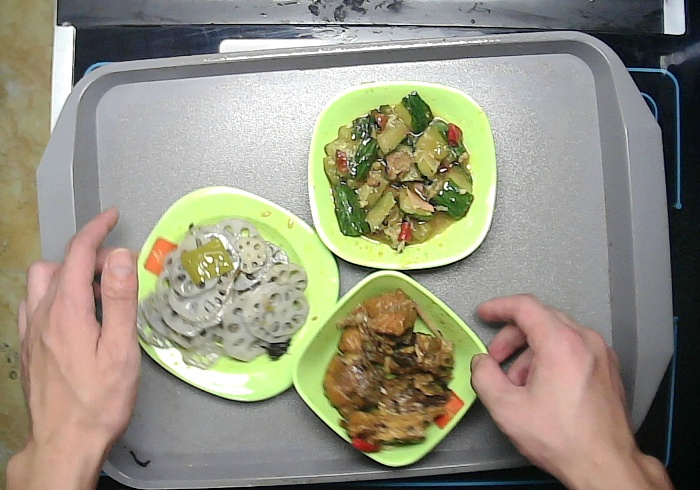SHKJ-Lv_Se_Cai_Die: (305, 81, 497, 273)
SHKJ-Lv_Se_Si_Fang_Cai_Die: (130, 182, 343, 402)
SHKJ-Lv_Se_Xiao_Fang_Die: (293, 271, 494, 471)
